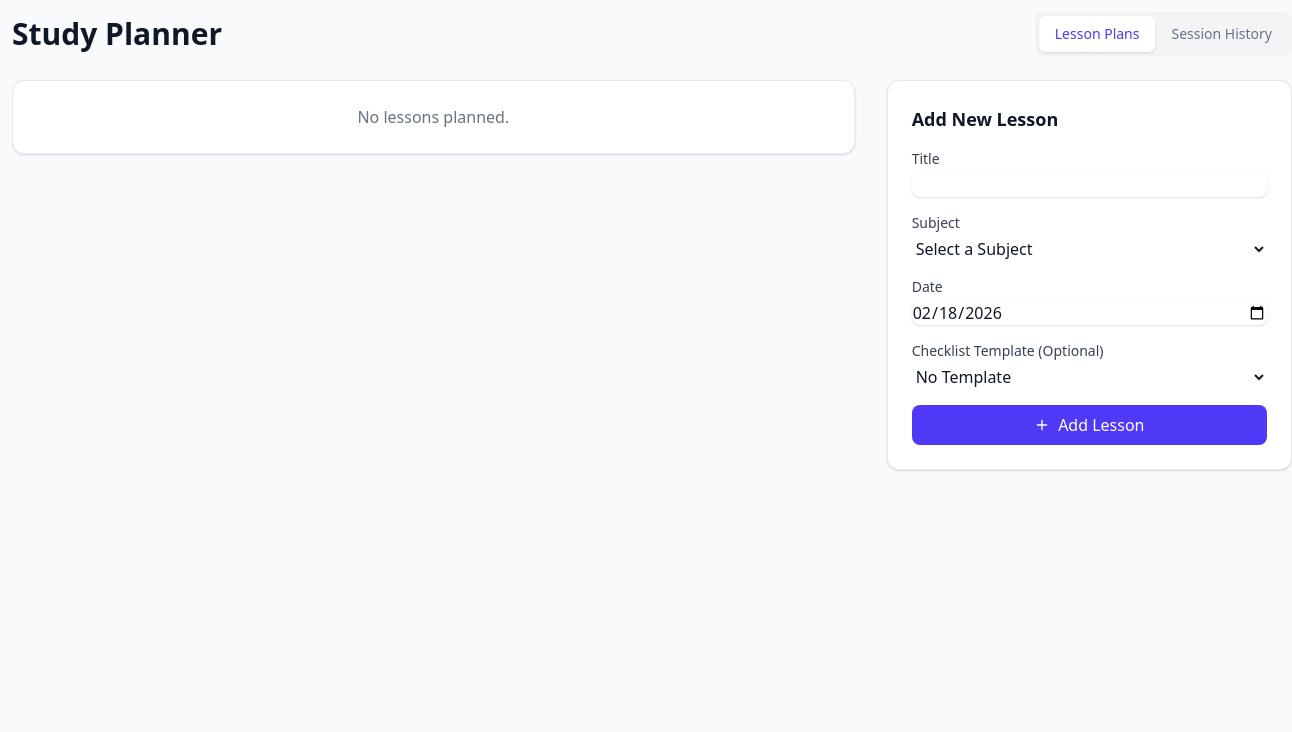
Test: Planner › shows empty sessions state
The width and height of the screenshot is (1292, 732).
Click the button "Session History". click: (1222, 34)
box: [1156,16,1288,52]
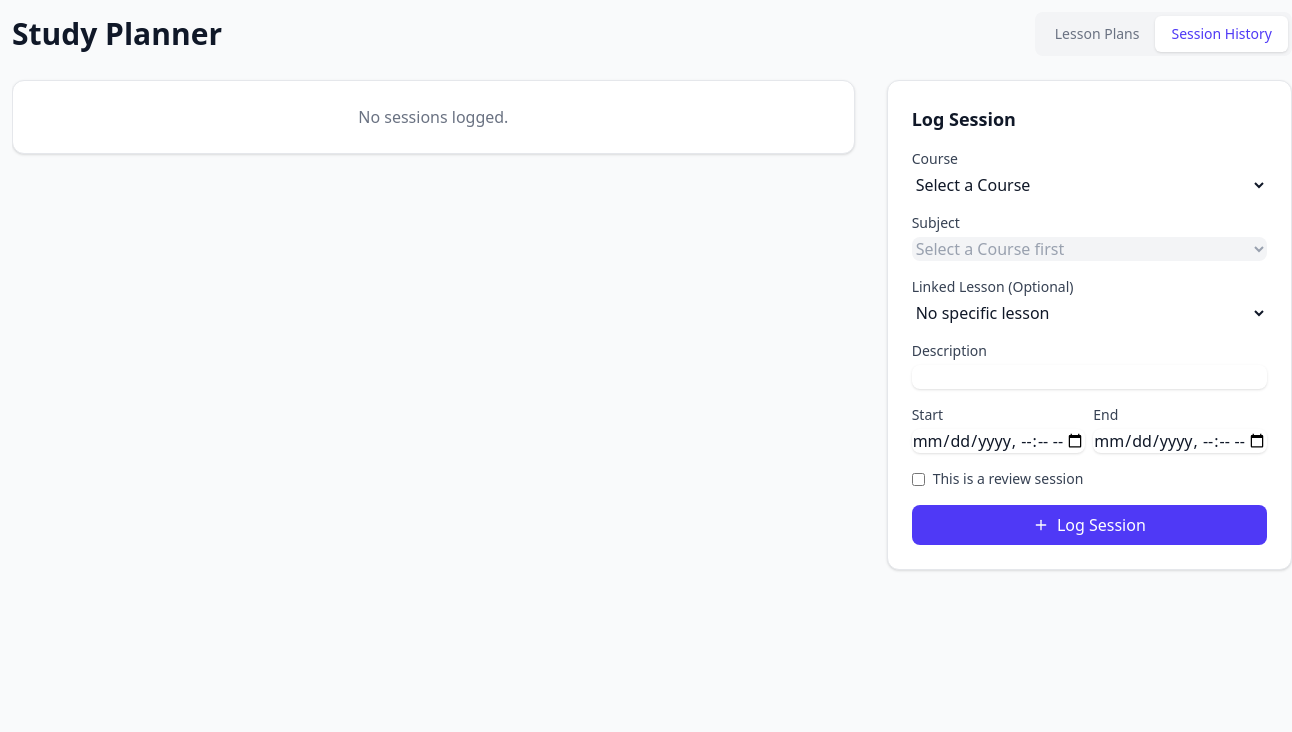
Result: the text "No sessions logged." is shown at [358,106,508,128]
